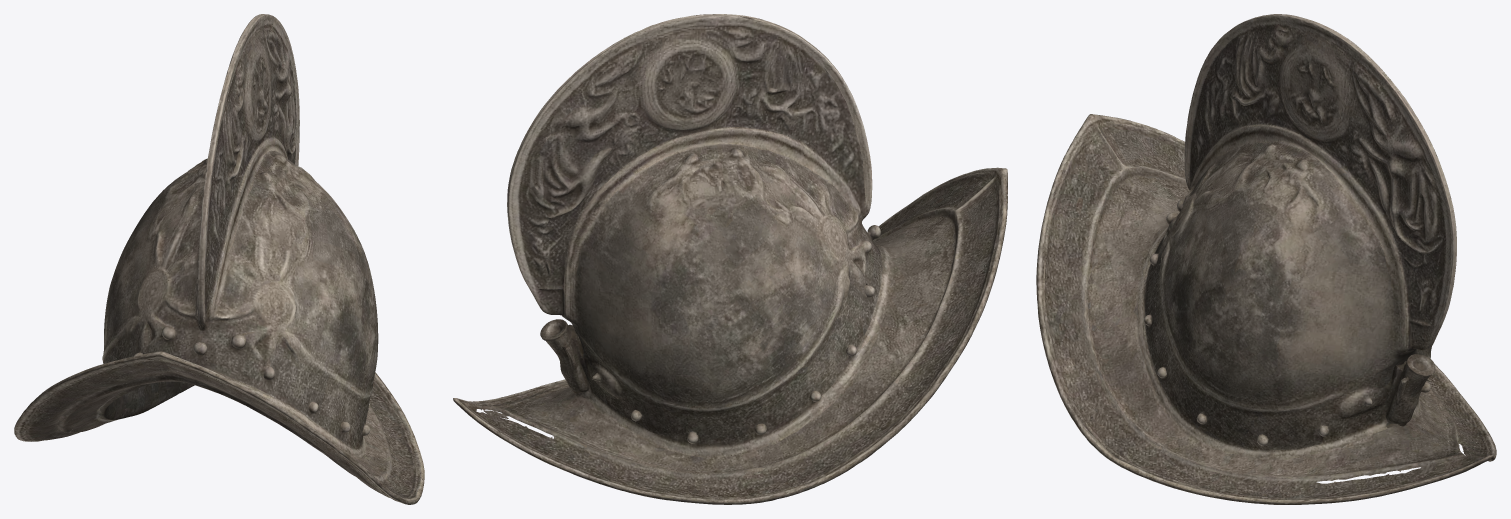
Rendered from helm.glb.
3 views of the same model, side by side, from view 1: azimuth 30°, elevation 25°; view 2: azimuth 150°, elevation 25°; view 3: azimuth 270°, elevation 25° (orthographic).
Parts seen in each view (by area): view 1: geometry_0; view 2: geometry_0; view 3: geometry_0.
Boxes of the visible parts, box(x1,y1,x2,y2) form: geometry_0: box(14, 14, 424, 504); geometry_0: box(453, 14, 1007, 504); geometry_0: box(1036, 14, 1496, 504).
Bounding box in the file's own units: 1 × 0.9917 × 0.9935.
1 material, 1 textured.
